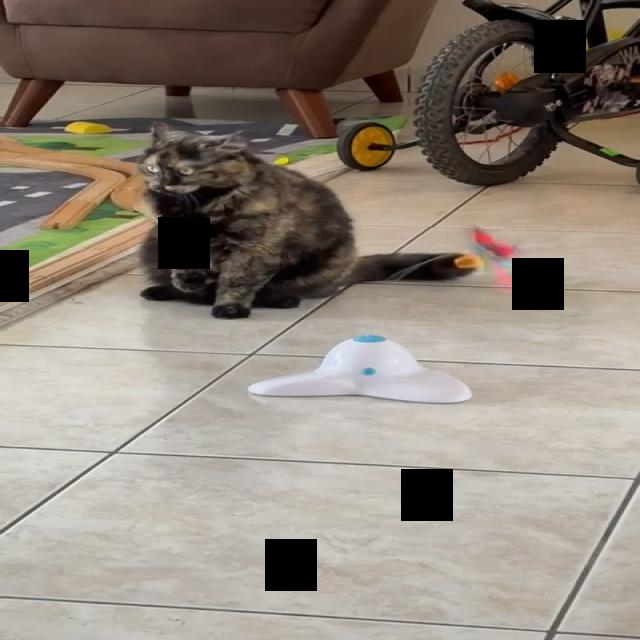authorized: (134, 121, 482, 319)
